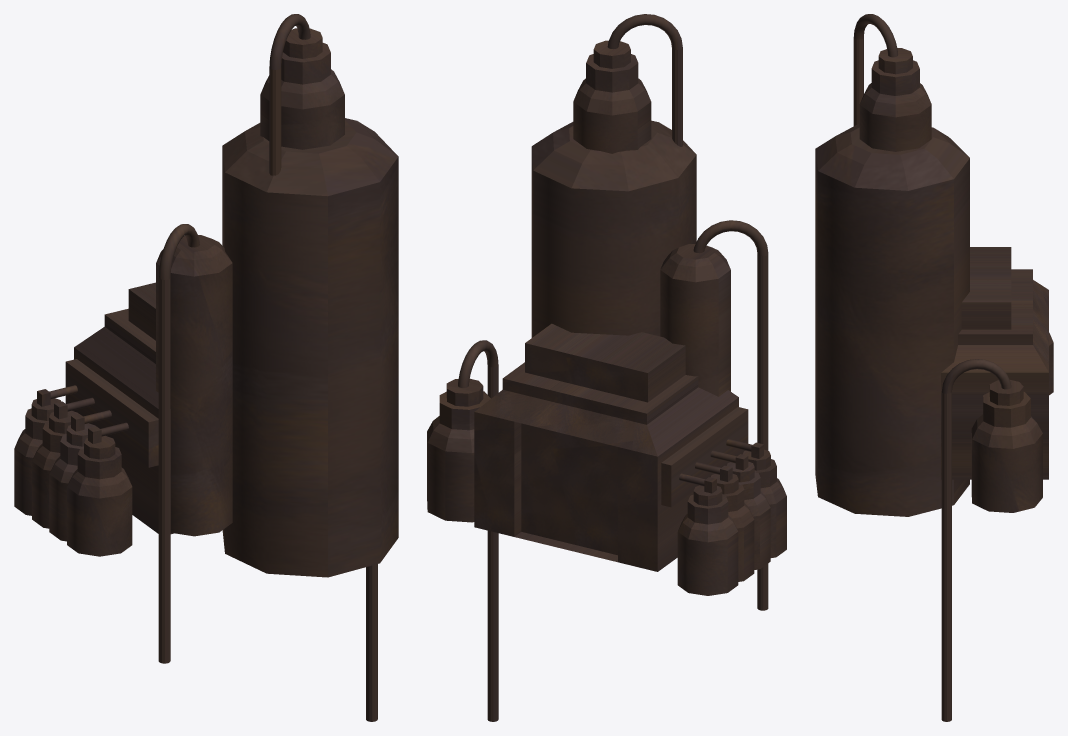
File: building3.FBX
3 renders of one model, left to right at view 1: azimuth 30°, elevation 25°; view 2: azimuth 150°, elevation 25°; view 3: azimuth 270°, elevation 25°, orthographic. The views are drawn at different scales.
Visible parts, largest first — view 1: Cylinder031, Cylinder022, Box007, Cylinder045, Cylinder044, Torus009, Box008, Torus008, Cylinder041, Cylinder042, Cylinder043, Torus010; view 2: Box007, Cylinder031, Cylinder022, Cylinder045, Cylinder046, Cylinder041, Torus009, Box008, Torus010, Torus008, Cylinder044, Cylinder043 (+1 smaller); view 3: Cylinder031, Box007, Cylinder046, Cylinder045, Torus010, Torus008.
Part boxes in pixels (left/top/right/bottom): Cylinder031: left=222, top=118, right=398, bottom=577; Cylinder022: left=156, top=235, right=232, bottom=536; Box007: left=74, top=282, right=173, bottom=534; Cylinder045: left=260, top=28, right=344, bottom=149; Cylinder044: left=67, top=435, right=132, bottom=556; Torus009: left=158, top=224, right=199, bottom=663; Box008: left=65, top=359, right=158, bottom=467; Torus008: left=269, top=14, right=310, bottom=175; Cylinder041: left=14, top=398, right=61, bottom=515; Cylinder042: left=32, top=410, right=78, bottom=528; Cylinder043: left=49, top=423, right=95, bottom=541; Torus010: left=366, top=564, right=377, bottom=721; Box007: left=474, top=323, right=738, bottom=571; Cylinder031: left=531, top=120, right=696, bottom=337; Cylinder022: left=660, top=244, right=730, bottom=396; Cylinder045: left=573, top=40, right=651, bottom=153; Cylinder046: left=427, top=378, right=490, bottom=522; Cylinder041: left=677, top=485, right=738, bottom=595; Torus009: left=693, top=220, right=768, bottom=610; Box008: left=661, top=407, right=748, bottom=507; Torus010: left=458, top=340, right=498, bottom=721; Torus008: left=607, top=14, right=682, bottom=146; Cylinder044: left=742, top=449, right=786, bottom=557; Cylinder043: left=726, top=461, right=770, bottom=569; Cylinder031: left=815, top=123, right=969, bottom=516; Box007: left=941, top=247, right=1048, bottom=479; Cylinder046: left=971, top=380, right=1042, bottom=512; Cylinder045: left=859, top=48, right=931, bottom=151; Torus010: left=941, top=359, right=1011, bottom=721; Torus008: left=853, top=14, right=897, bottom=125.
Size of the model in its own units: 204 by 440 by 146.
